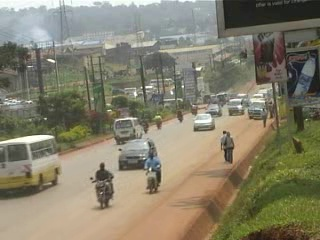Car: (112, 136, 159, 172), (189, 110, 217, 133), (205, 101, 224, 118)
Motorcycle: (85, 173, 118, 211), (140, 164, 164, 195), (154, 116, 164, 131), (174, 111, 184, 124), (141, 120, 148, 134), (189, 104, 196, 116)
